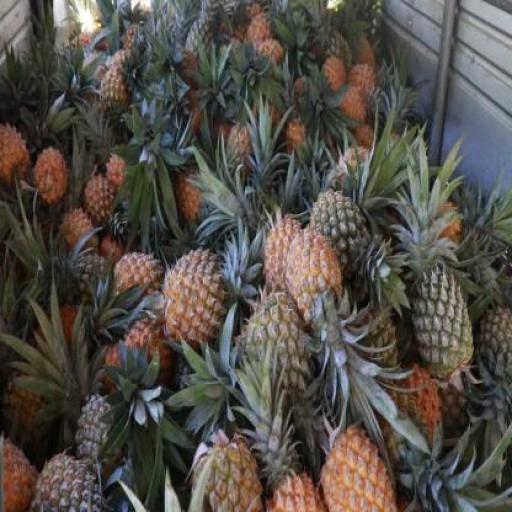------------------------------: (244, 291, 312, 391), (312, 189, 376, 287), (3, 375, 54, 450), (100, 68, 133, 126)
Pineapple - v8 v1: (324, 422, 402, 511), (287, 224, 348, 326), (164, 251, 226, 346), (266, 215, 314, 304), (126, 318, 171, 396), (0, 432, 42, 511), (114, 249, 157, 306), (86, 170, 124, 224), (0, 123, 33, 185), (36, 144, 66, 204)
